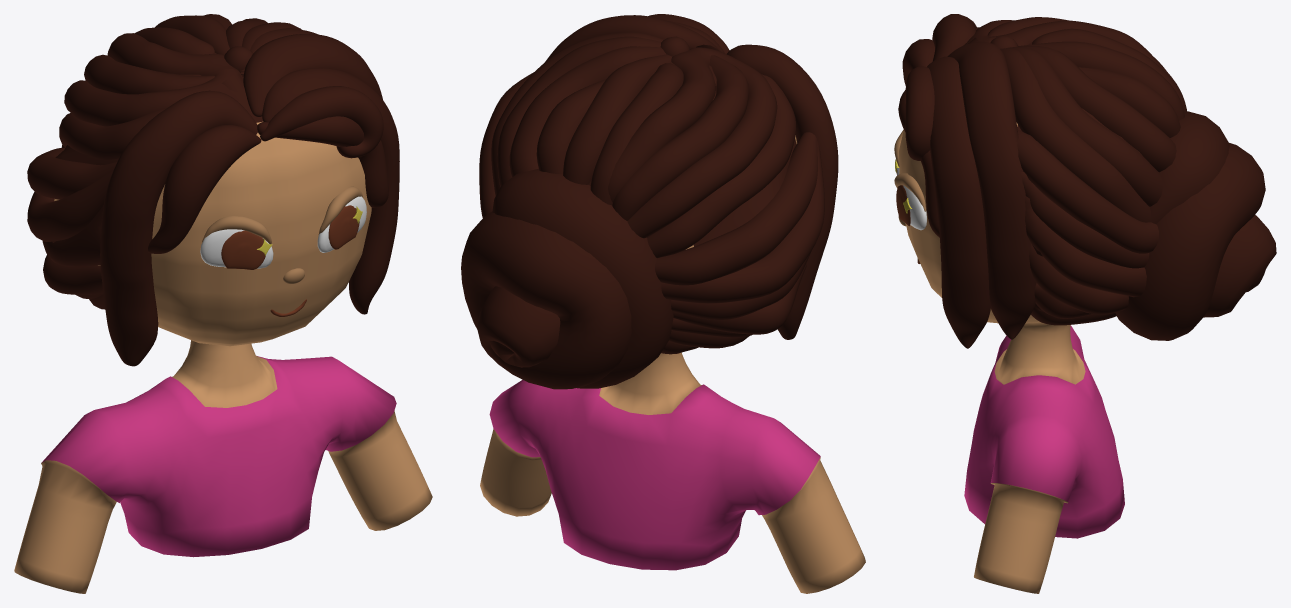
Rendered from dinaChar.glb.
The picture shows the model from 3 angles, left to right: view 1: azimuth 30°, elevation 25°; view 2: azimuth 150°, elevation 25°; view 3: azimuth 270°, elevation 25°; orthographic projection. The views are drawn at different scales.
Visible parts, largest first — view 1: Plane, Vert.007, Vert.003, Vert.010, Vert.004, Vert.001, Vert.005, Vert.002, Vert.008, Vert.012, Sphere.001, Plane.005 (+1 smaller); view 2: Plane, Vert.011, Vert.003, Vert.010, Vert.008, Vert.007, Vert.005, Vert.009, Vert.002; view 3: Plane, Vert.011, Vert.008, Vert.009, Vert.005, Vert.004, Vert.003, Vert.002, Vert.007, Vert.012, Vert.001, Plane.014 (+1 smaller).
Part boxes in pixels (left/top/right/bottom): Plane: left=14, top=52, right=432, bottom=593; Vert.007: left=100, top=90, right=257, bottom=366; Vert.003: left=59, top=27, right=254, bottom=159; Vert.010: left=27, top=147, right=117, bottom=309; Vert.004: left=262, top=68, right=399, bottom=314; Vert.001: left=148, top=124, right=261, bottom=253; Vert.005: left=243, top=34, right=382, bottom=282; Vert.002: left=260, top=86, right=383, bottom=158; Vert.008: left=155, top=14, right=318, bottom=76; Vert.012: left=257, top=116, right=388, bottom=207; Sphere.001: left=221, top=205, right=359, bottom=269; Plane.005: left=200, top=196, right=366, bottom=268; Plane: left=480, top=62, right=865, bottom=593; Vert.011: left=461, top=168, right=673, bottom=389; Vert.003: left=590, top=44, right=795, bottom=257; Vert.010: left=655, top=132, right=824, bottom=354; Vert.008: left=491, top=32, right=671, bottom=195; Vert.007: left=727, top=44, right=838, bottom=339; Vert.005: left=545, top=15, right=721, bottom=61; Vert.009: left=479, top=36, right=689, bottom=217; Vert.002: left=648, top=14, right=729, bottom=53; Plane: left=899, top=42, right=1142, bottom=593; Vert.011: left=1115, top=111, right=1276, bottom=340; Vert.008: left=1000, top=41, right=1184, bottom=222; Vert.009: left=990, top=36, right=1158, bottom=325; Vert.005: left=947, top=41, right=1036, bottom=339; Vert.004: left=927, top=56, right=990, bottom=348; Vert.003: left=963, top=17, right=1187, bottom=112; Vert.002: left=905, top=66, right=934, bottom=160; Vert.007: left=932, top=14, right=976, bottom=61; Vert.012: left=898, top=90, right=939, bottom=237; Vert.001: left=902, top=39, right=934, bottom=85; Plane.014: left=894, top=129, right=925, bottom=211.
Size of the model in its own units: 0.5865 by 0.7372 by 0.5194.
